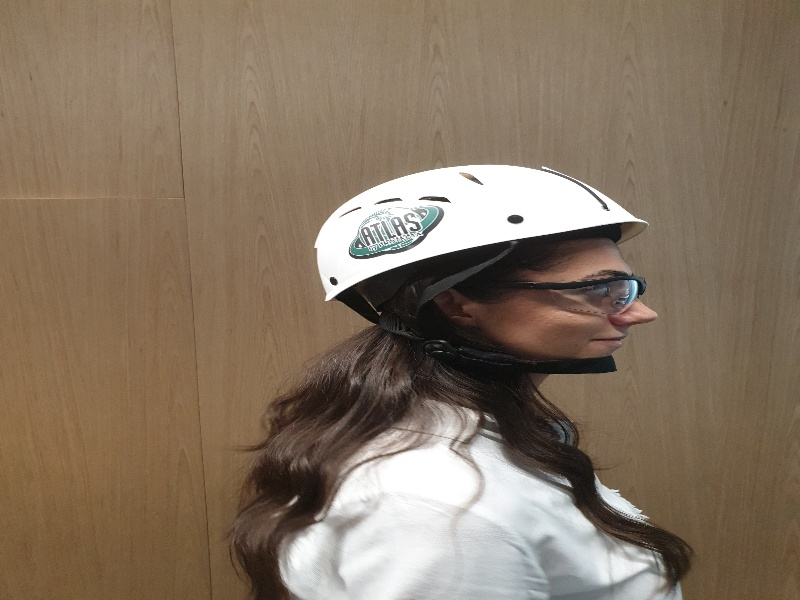Baret: (313, 163, 650, 277)
Gozluk: (482, 276, 647, 309)
